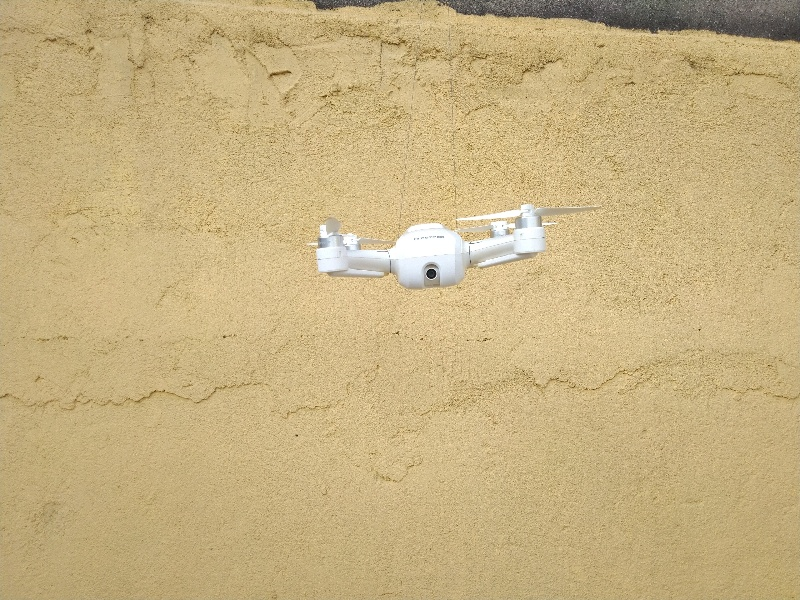drone: (304, 199, 579, 299)
